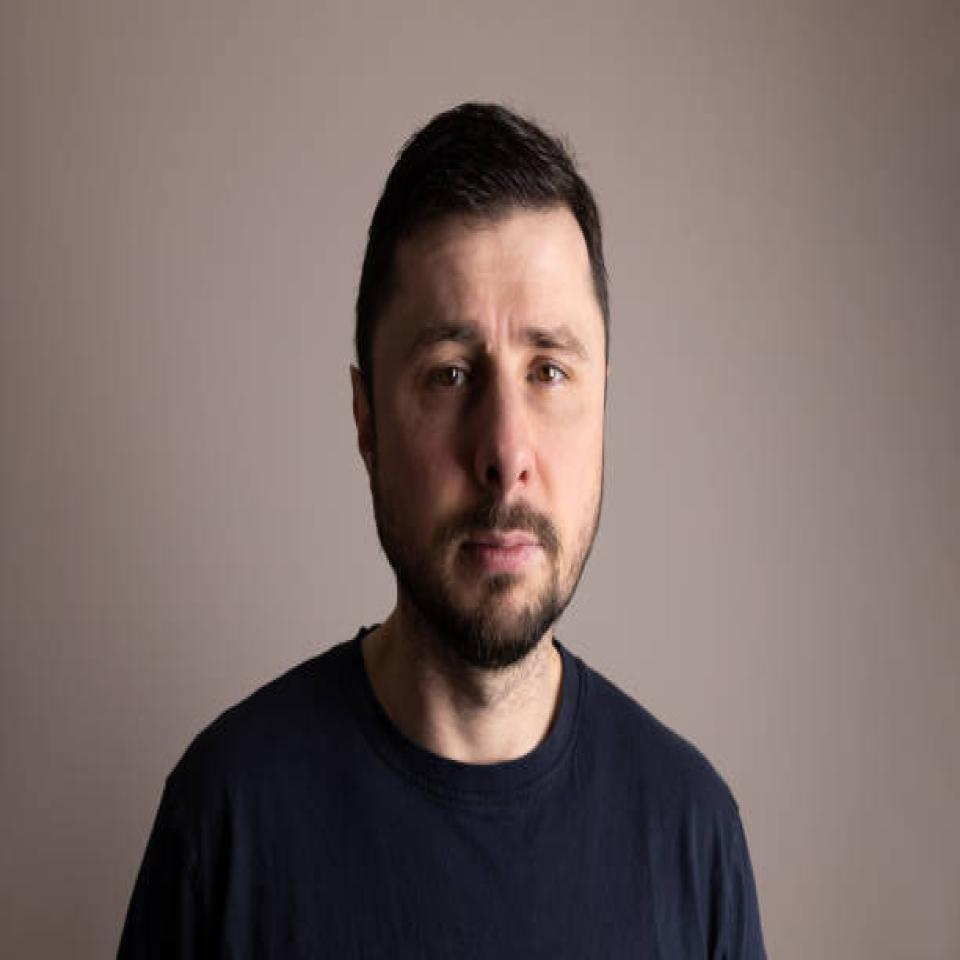Sadness: (356, 213, 606, 670)
